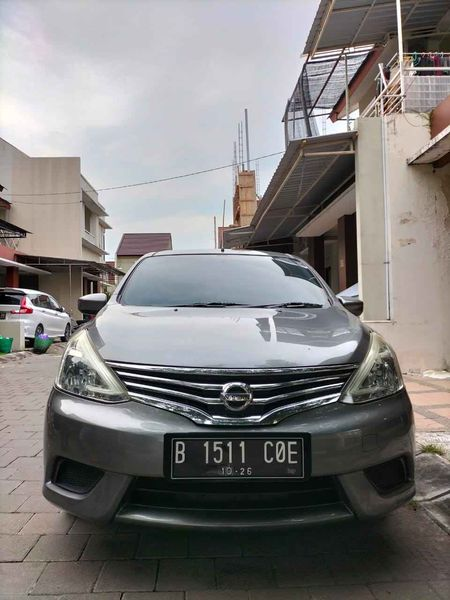plate: (169, 436, 306, 483)
